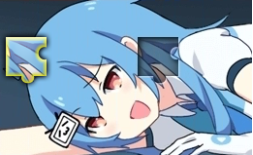gap: (137, 37, 180, 83)
